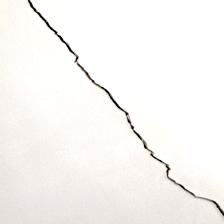High: (23, 1, 224, 220)
